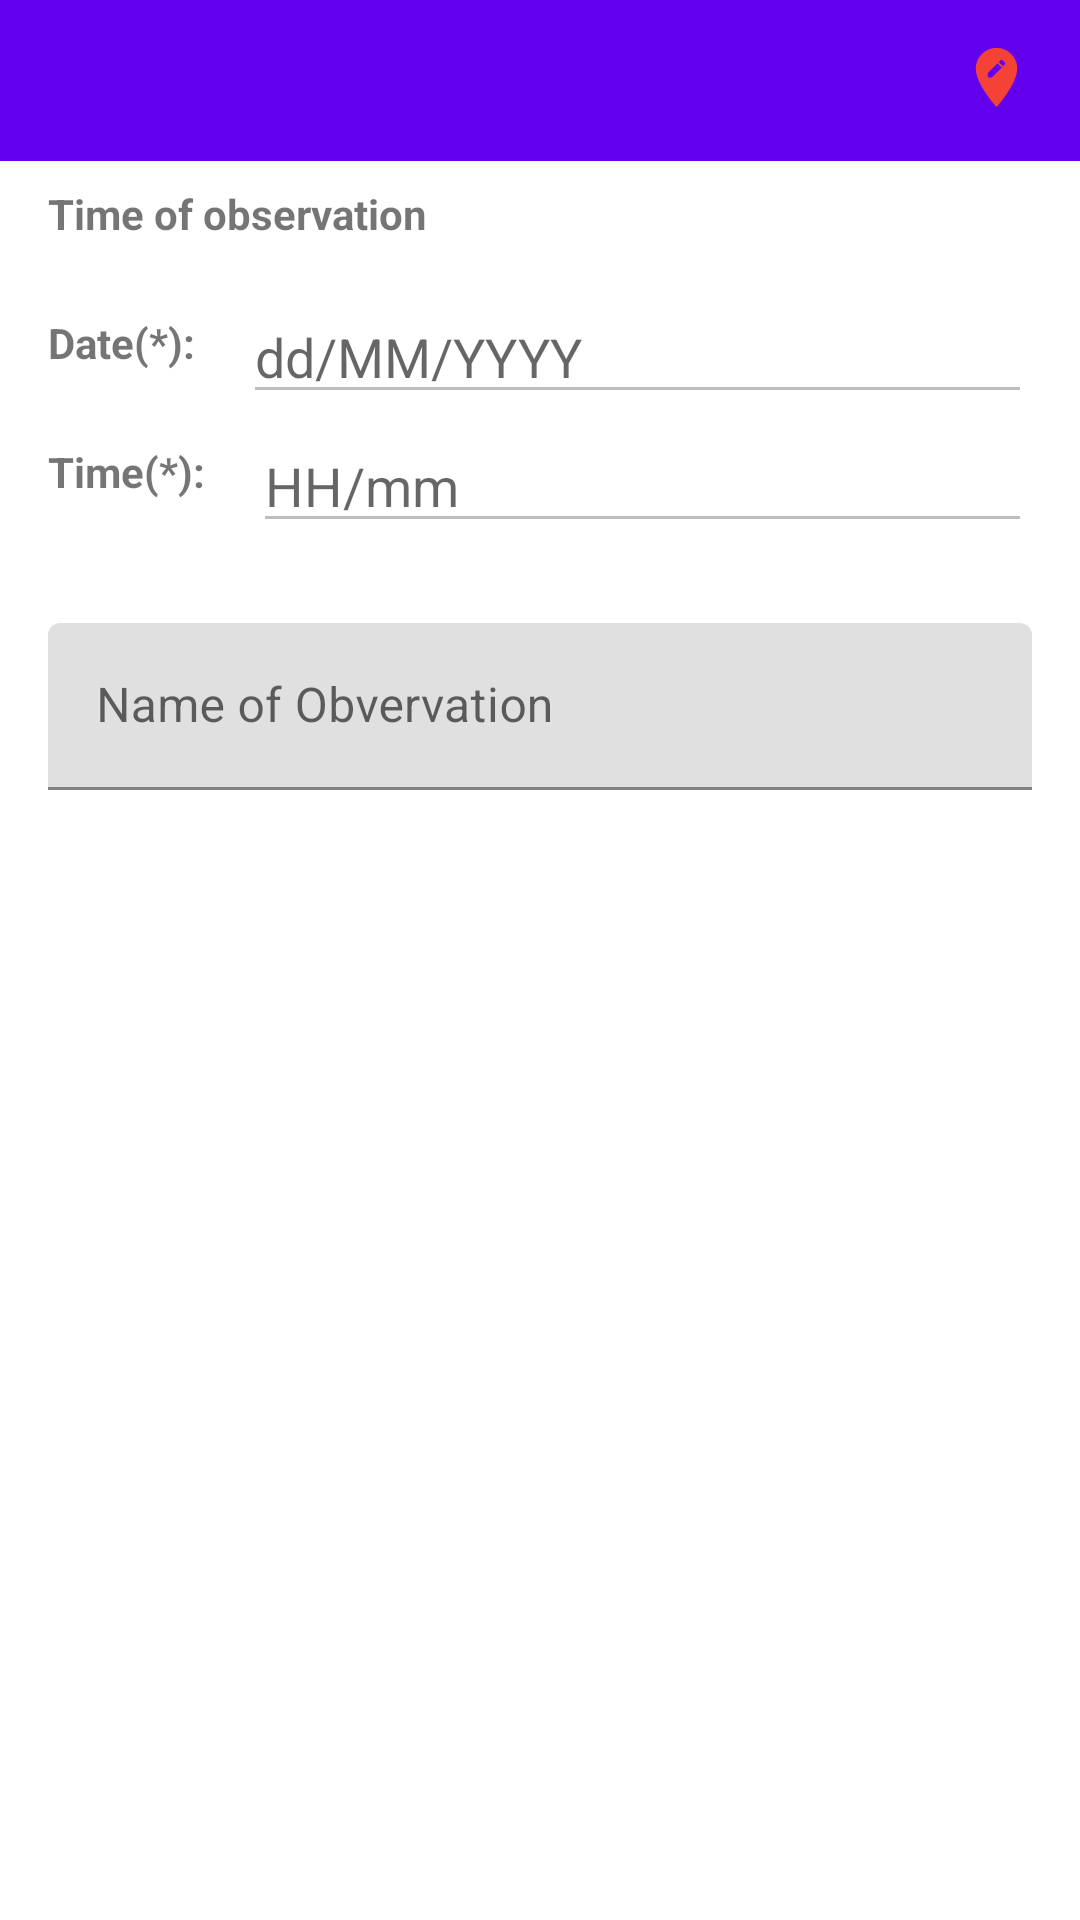

Where to tap for icons on this 1080×1920 app screen, as (x,y):
edit task: (996,77)
